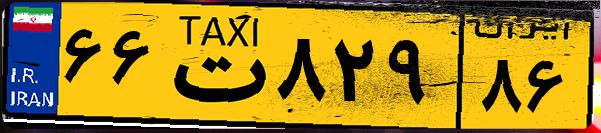2: (330, 28, 385, 110)
6: (57, 26, 110, 100), (525, 38, 570, 115), (110, 28, 158, 98)
8: (270, 28, 330, 110), (475, 38, 525, 113)
9: (385, 28, 445, 110)
ت: (158, 12, 270, 120)
